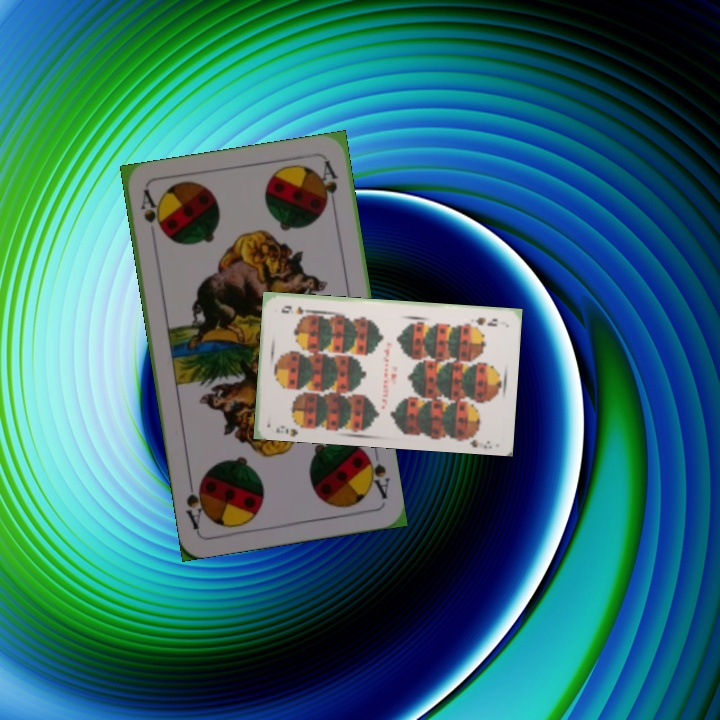S9: (272, 417, 309, 436), (471, 313, 500, 329)
SA: (360, 446, 392, 502), (136, 186, 165, 236)
